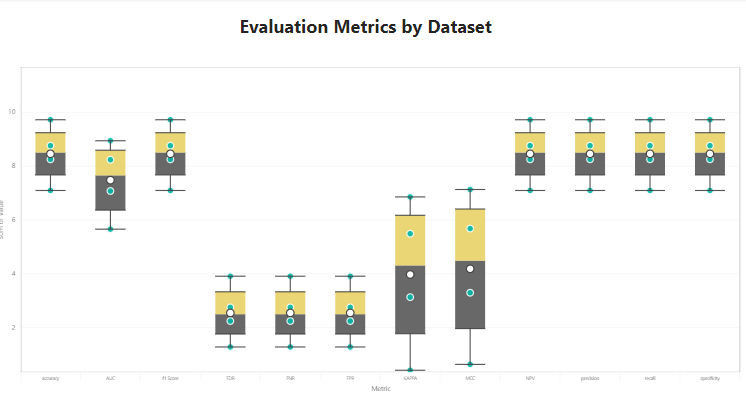

What the dashboard file says about the page in this screenshot:
{"tool":"powerbi","page":{"name":"Evaluation Metrics by Dataset","canvas":[1350,720],"ordinal":4},"visuals":[{"type":"textbox","box":[408.3,21.5,533.4,62.6],"z":0},{"type":"BoxandWhiskerByMAQ1823AD39DT234AB532063E128AX","fields":{"category":["result.dataset"],"categoryGroup":["result.Metric"],"measure":["Sum(result.Value)"]},"box":[8.2,109.8,1335.6,600.1],"z":1000}]}

Visuals, with their boxes in screenshot pixels (x1, y1, x2, y2), scaled from the page's 1350x720 canvas onto the 746x398 screenshot:
textbox: (x1=226, y1=12, x2=520, y2=46)
BoxandWhiskerByMAQ1823AD39DT234AB532063E128AX - result.dataset x result.Metric: (x1=5, y1=61, x2=743, y2=392)
